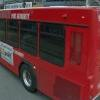Bus: (2, 5, 97, 97)
